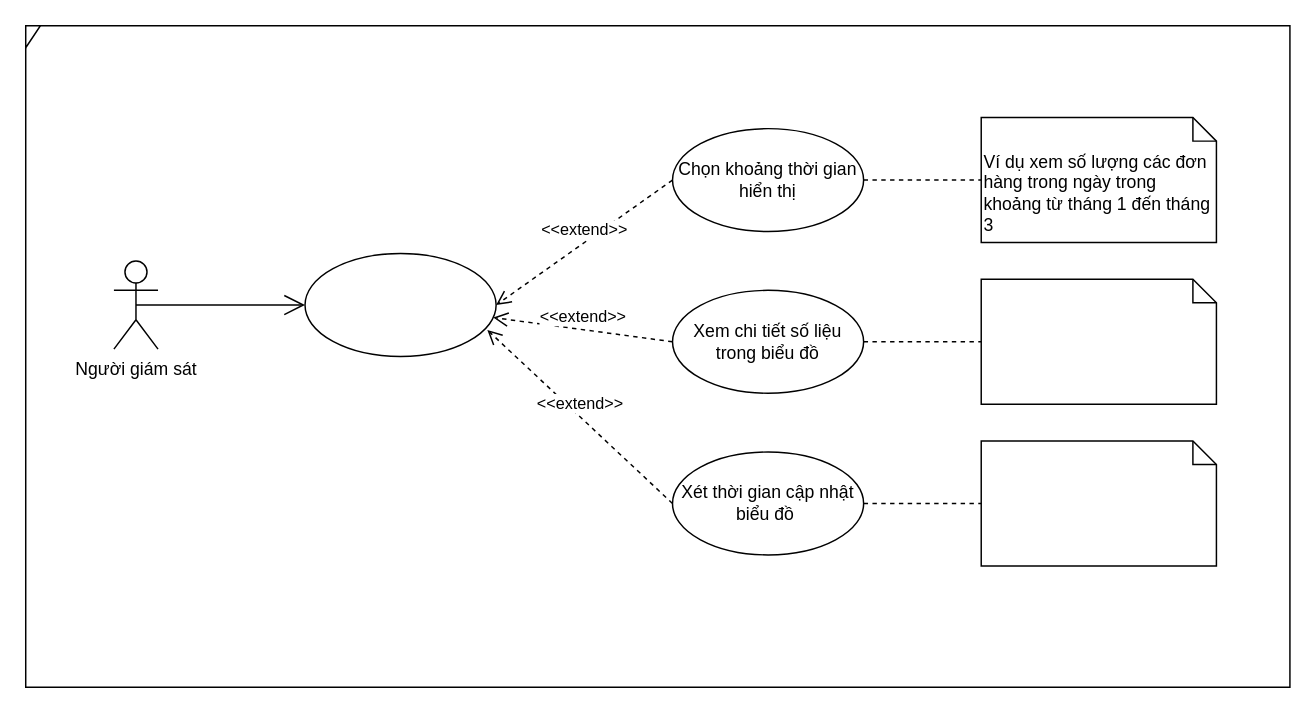
Some shapes in this 1316 by 713 pixel diagram are drawn without their labels. Each missing label, with the centre of its shape:
Khi click vào một điểm trên biểu đồ thì sẽ hiển thị số liệu cụ thể: point (1098, 341)
Sau khoảng thời gian xét, biểu đồ sẽ cập nhật lại số liệu từ cơ sở dữ liệu: point (1098, 503)
Xem biểu đồ trên Grafana: point (400, 304)
